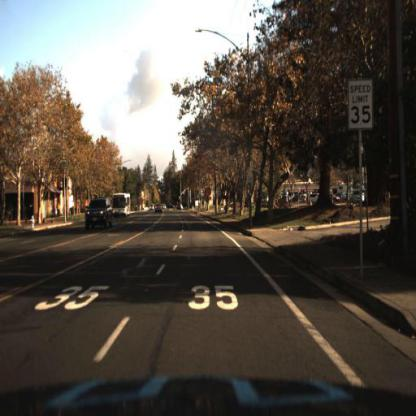car: (85, 197, 113, 233), (349, 187, 366, 208), (156, 201, 165, 215), (168, 205, 176, 210), (178, 205, 184, 211), (151, 205, 156, 212), (164, 206, 168, 211)
pedestrian: (57, 204, 62, 219)
truck: (113, 191, 131, 223)
